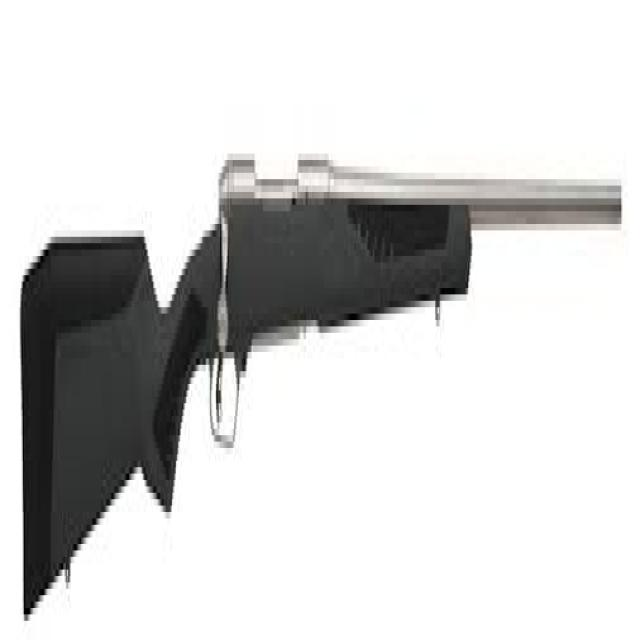rifle: (10, 114, 625, 626)
